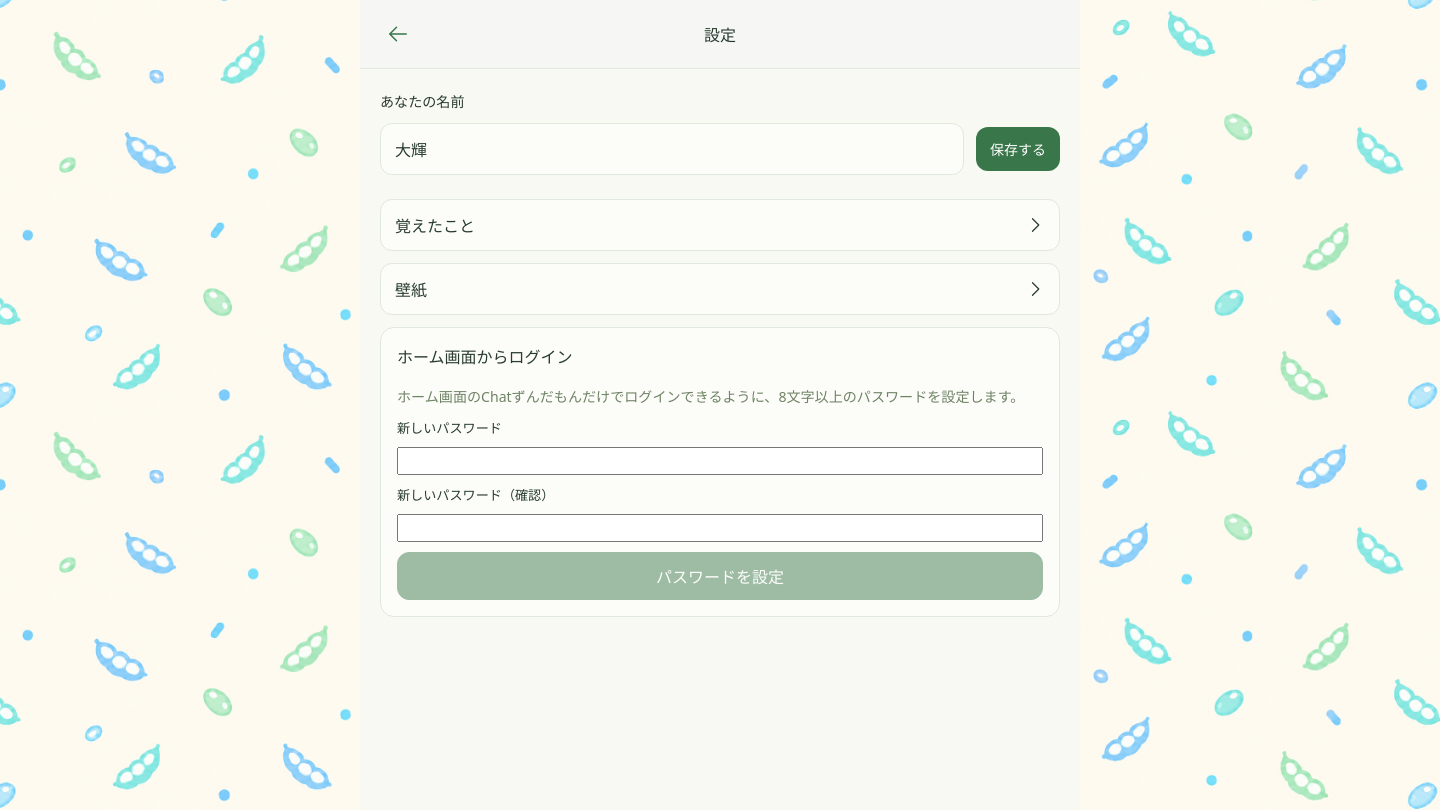
Scenario: profile settings › lets the signed-in owner set a password for home-screen login
Step 1. Type "new-long-password" into the password field labelled "新しいパスワード" → (720, 461), box x1=397 y1=447 x2=1043 y2=475
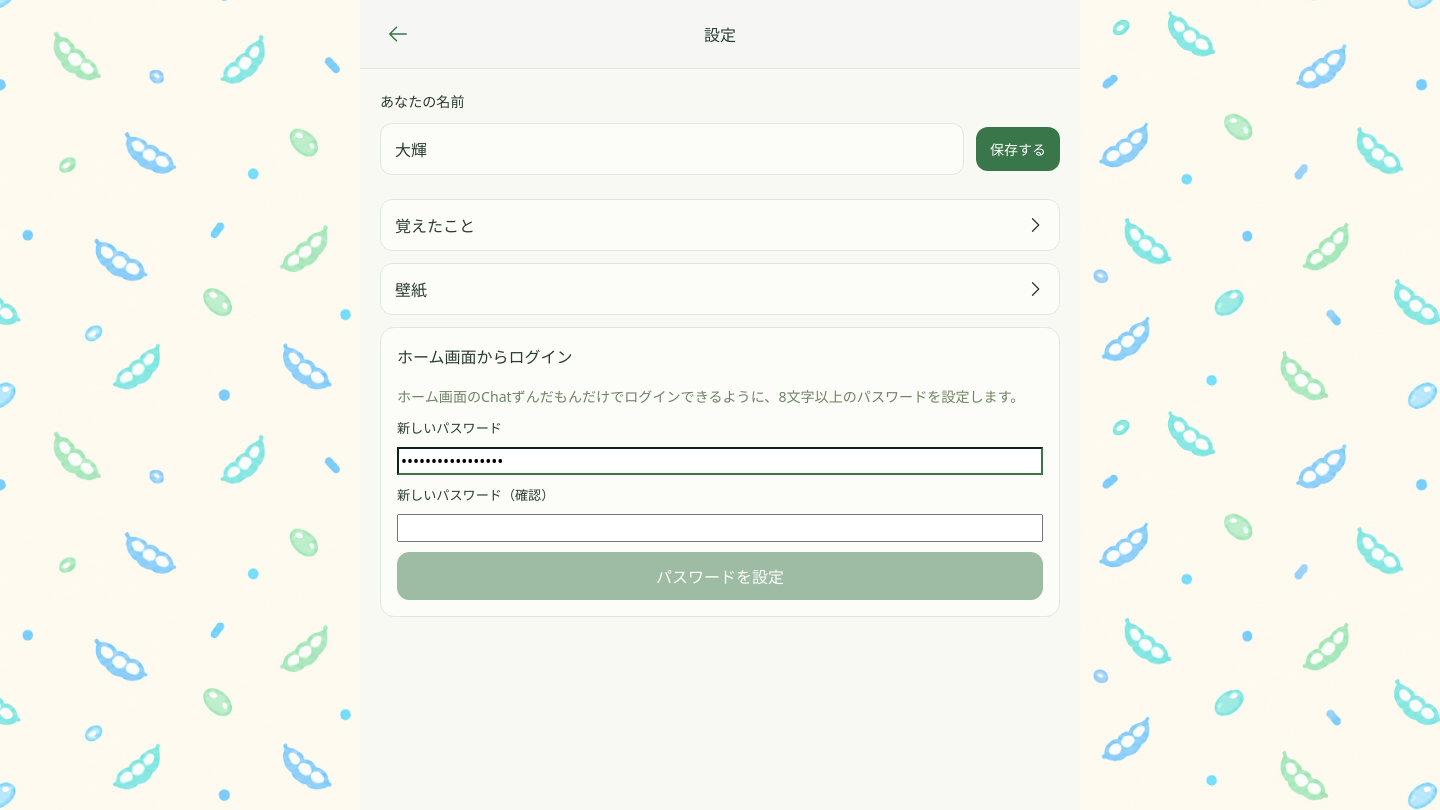
Step 2. Type "new-long-password" into the password field labelled "新しいパスワード（確認）" → (720, 528), box x1=397 y1=514 x2=1043 y2=542
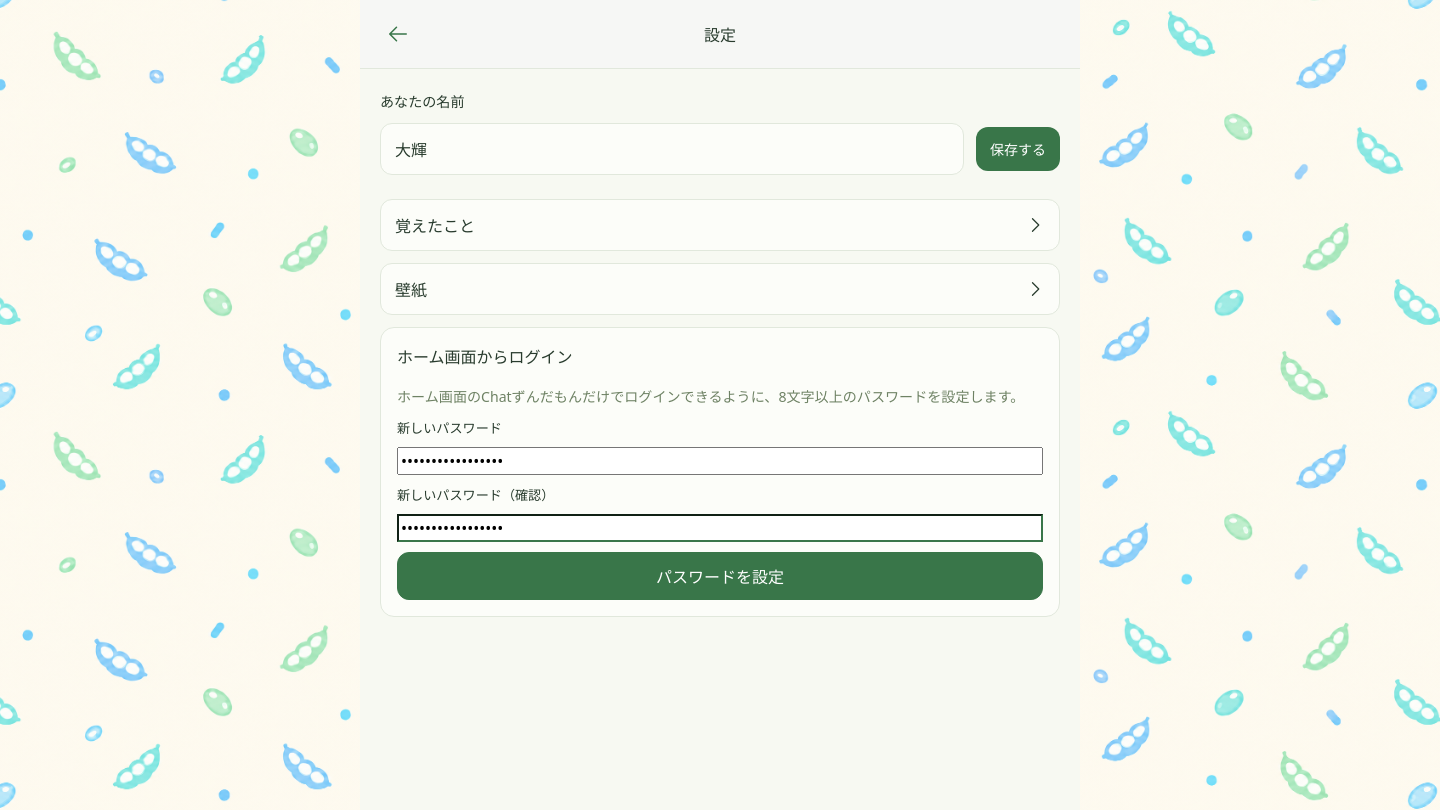
Step 3. Click the button "パスワードを設定" → (720, 576), box x1=397 y1=552 x2=1043 y2=600
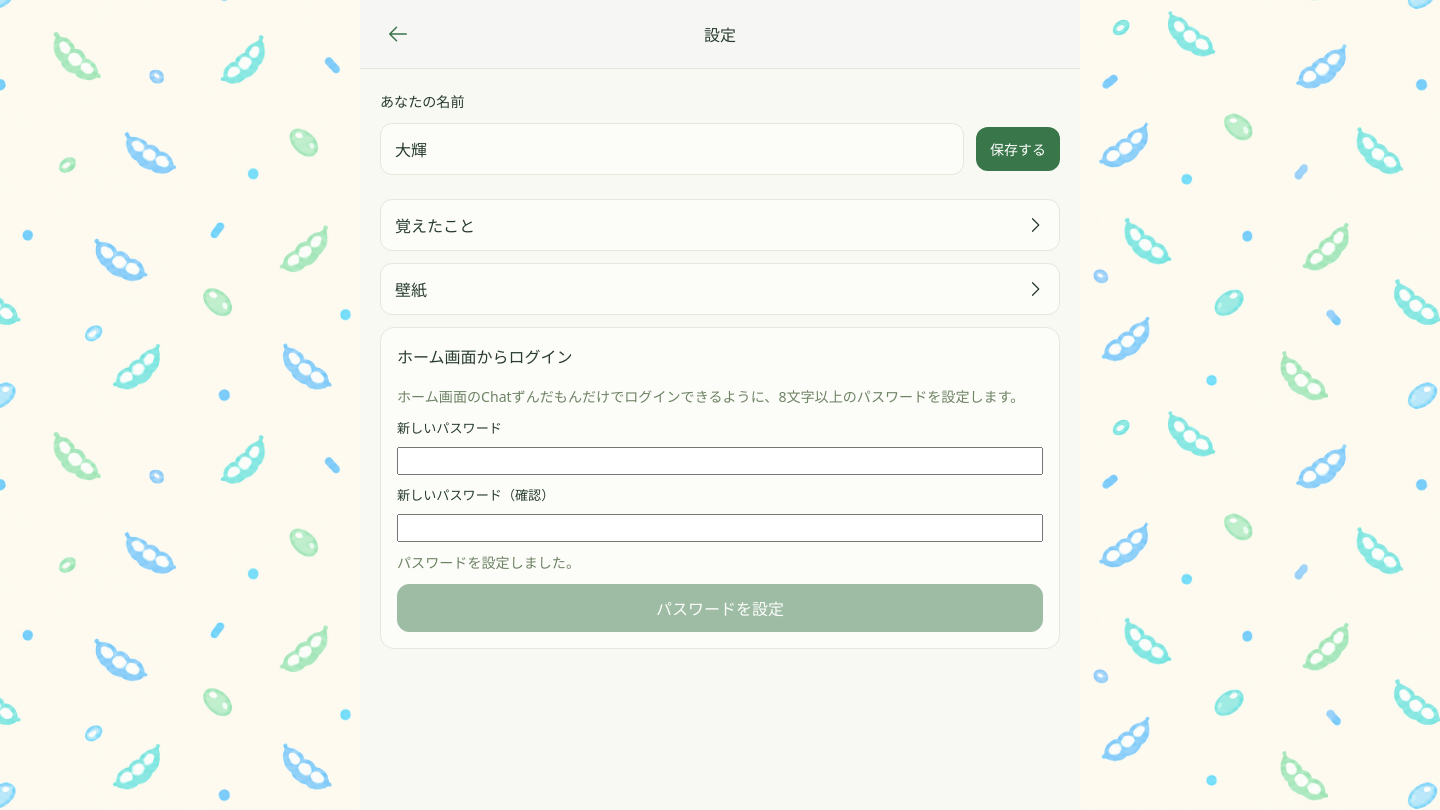
Expected: the message shows "パスワードを設定しました", x1=397 y1=553 x2=580 y2=572
